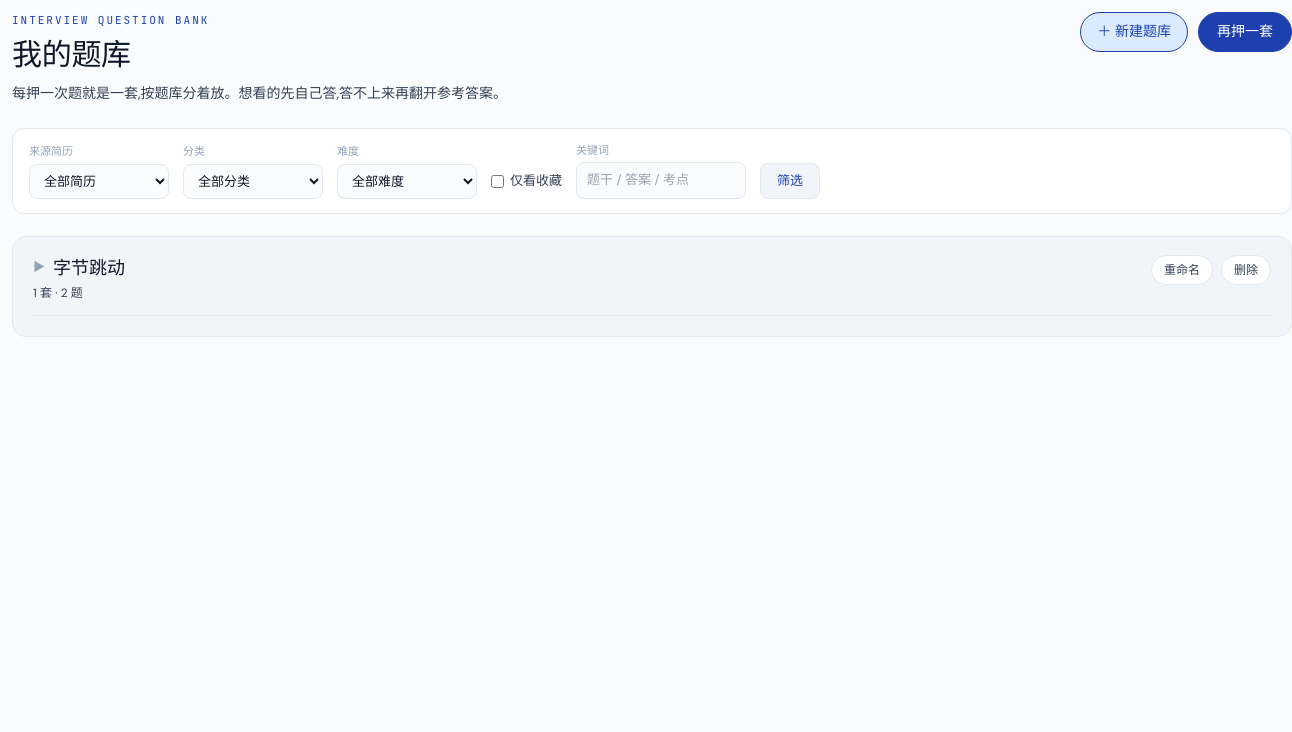
QuestionBank · 套与题目 › 删单题:题目从列表消失,套头题数减一
This screenshot has width=1292, height=732.
Click the button "▶ 字节跳动" at (79,268), box [33, 255, 125, 280]
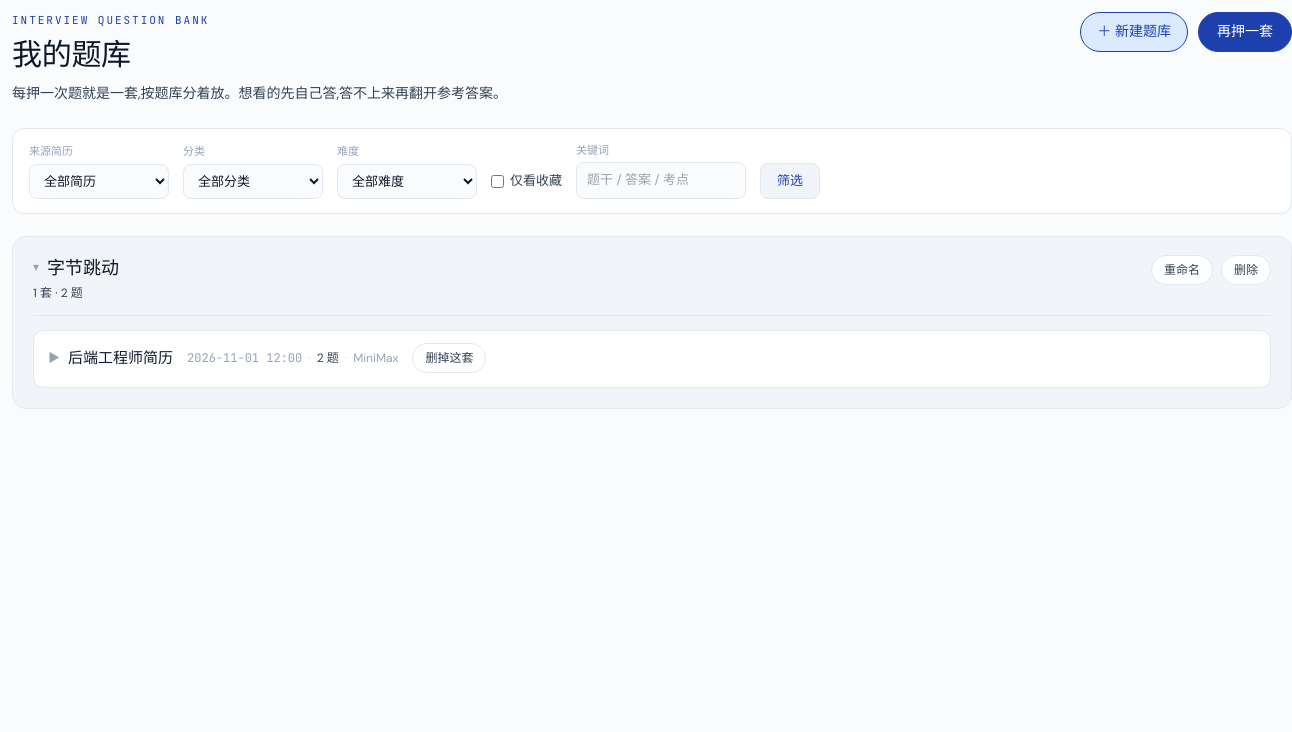
Result: the element "后端工程师简历" is shown at [33, 330, 1271, 388]
Click the button "▶ 后端工程师简历" at (110,358), box [48, 347, 173, 370]
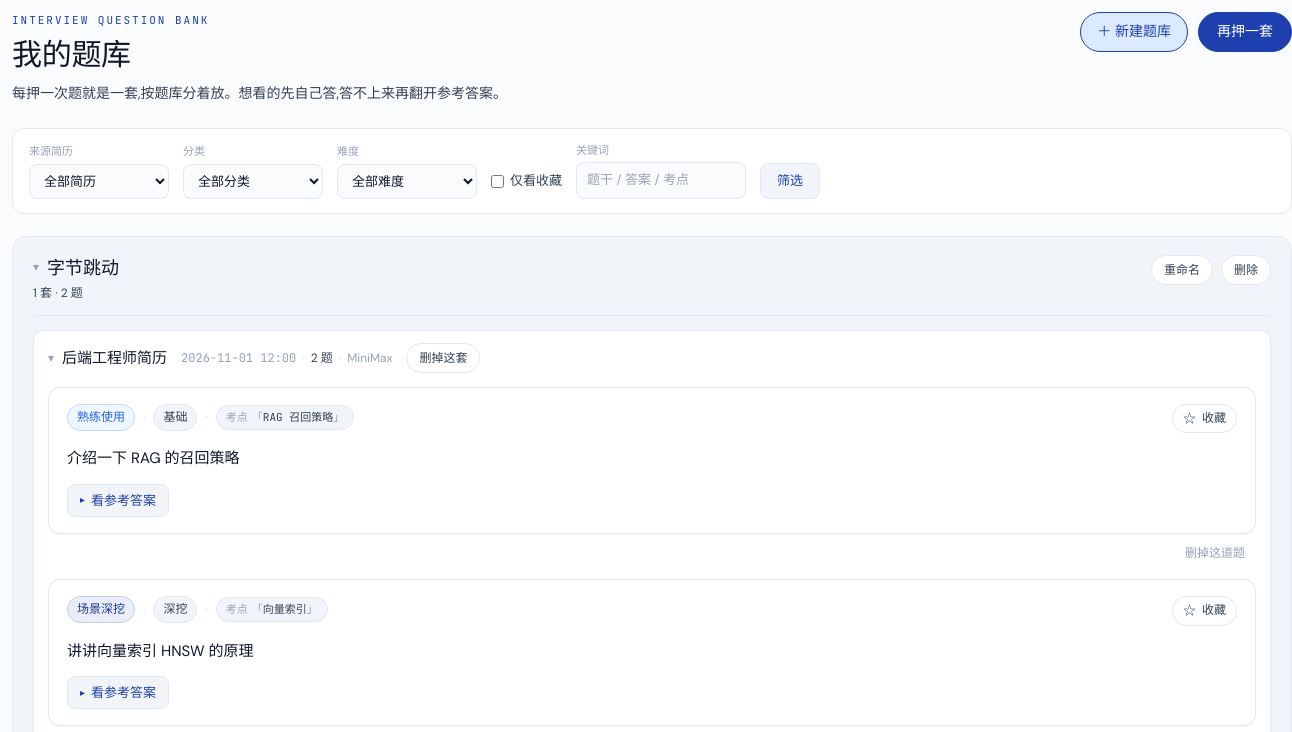
Result: the text "介绍一下 RAG 的召回策略" is shown at [67, 448, 240, 468]
Click the button "删掉这道题" at (1215,554), box [1174, 540, 1256, 567]
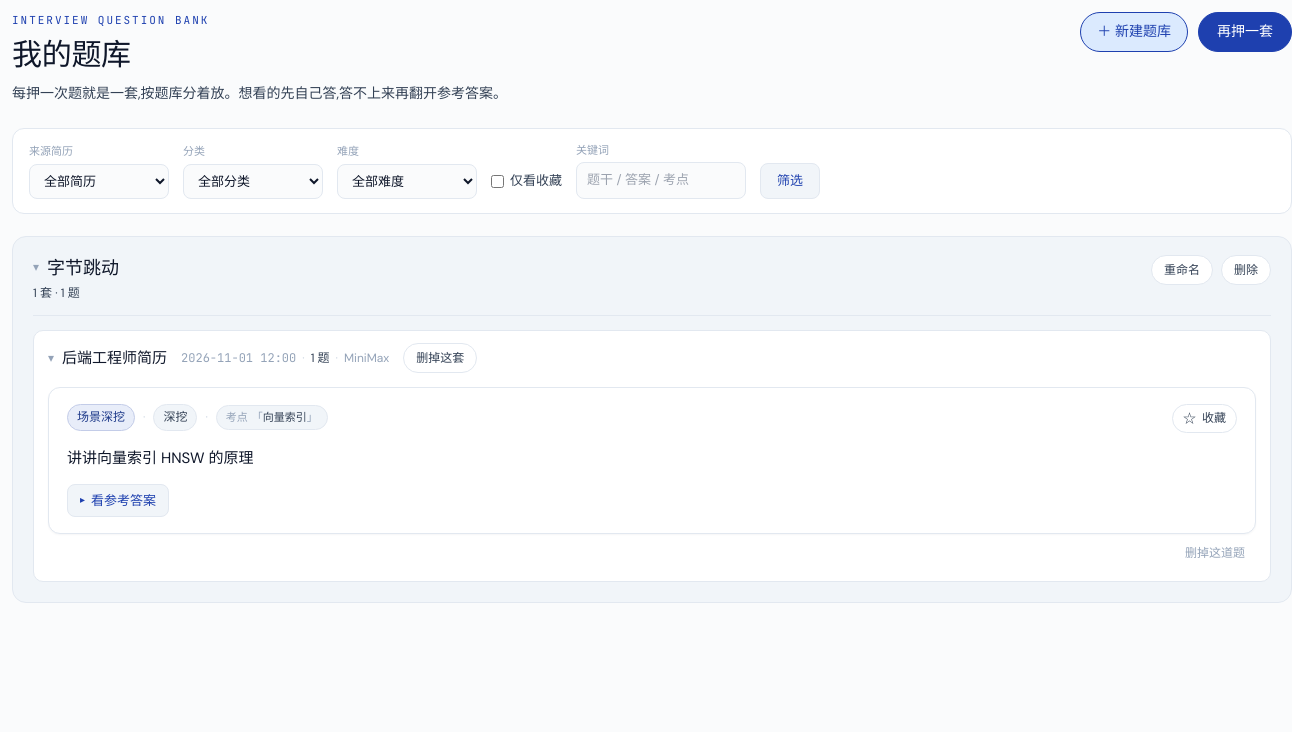
Result: the text "讲讲向量索引 HNSW 的原理" is shown at [67, 448, 254, 468]
Result: the text "介绍一下 RAG 的召回策略" is gone
Result: the text "1 题" is shown at [311, 349, 330, 368]
